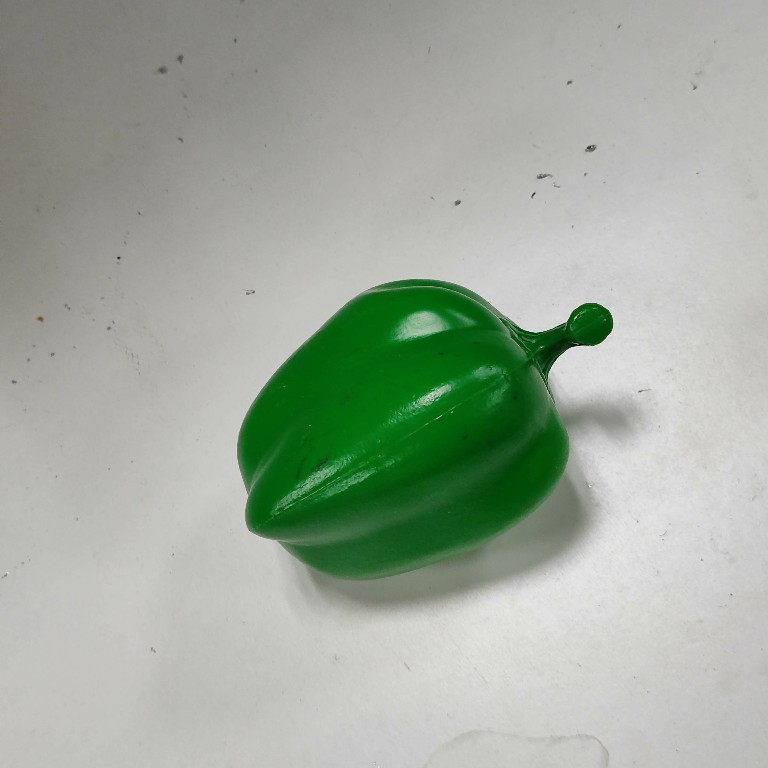fruit_pepper: (224, 273, 619, 584)
